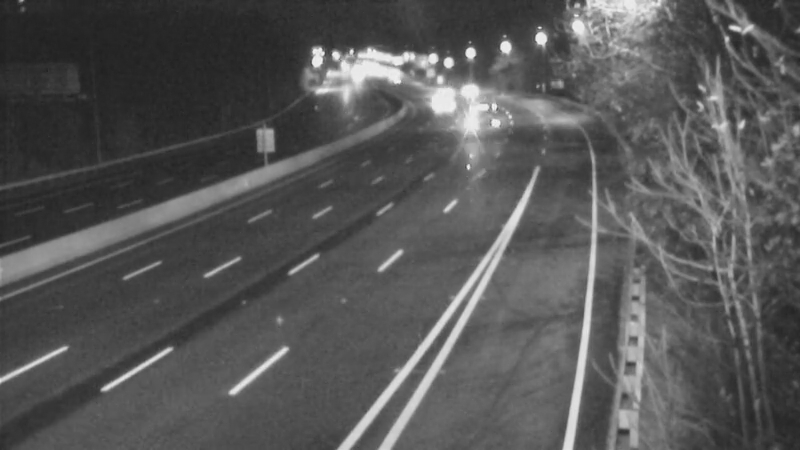vehicle: (442, 67, 492, 117), (414, 80, 464, 130), (453, 87, 503, 137)
